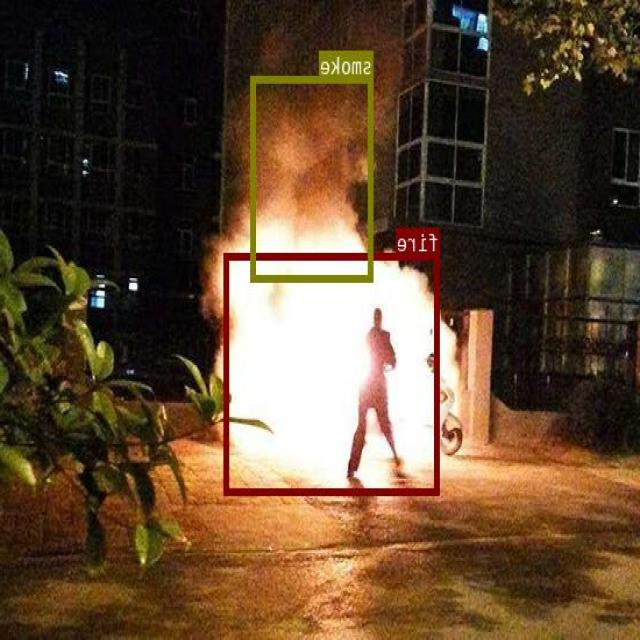fire: (224, 252, 440, 494)
smoke: (252, 75, 374, 280)
